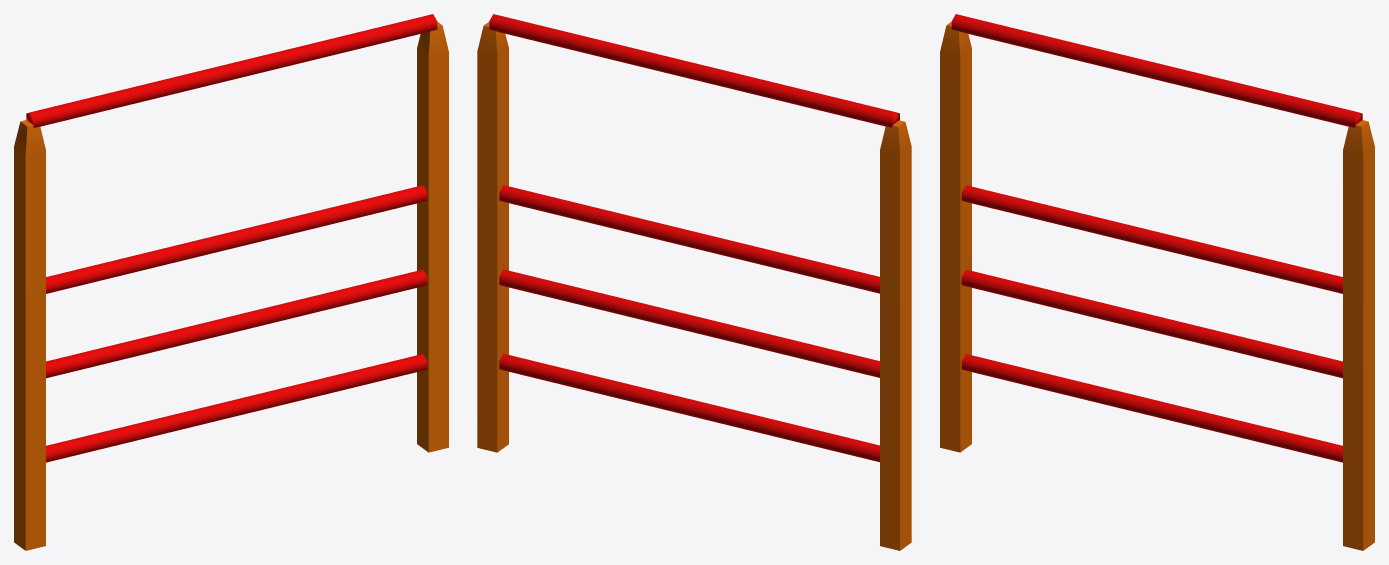
File: RailingPoles.fbx
3 views of the same model, side by side, from view 1: azimuth 30°, elevation 25°; view 2: azimuth 150°, elevation 25°; view 3: azimuth 330°, elevation 25° (orthographic).
Parts seen in each view (by area): view 1: polySurface95; view 2: polySurface95; view 3: polySurface95.
Part boxes in pixels (x1,y1,x2,y2): polySurface95: [14, 14, 448, 550]; polySurface95: [477, 14, 911, 550]; polySurface95: [940, 14, 1374, 550].
Size of the model in its own units: 1.05 by 1.02 by 0.05.
